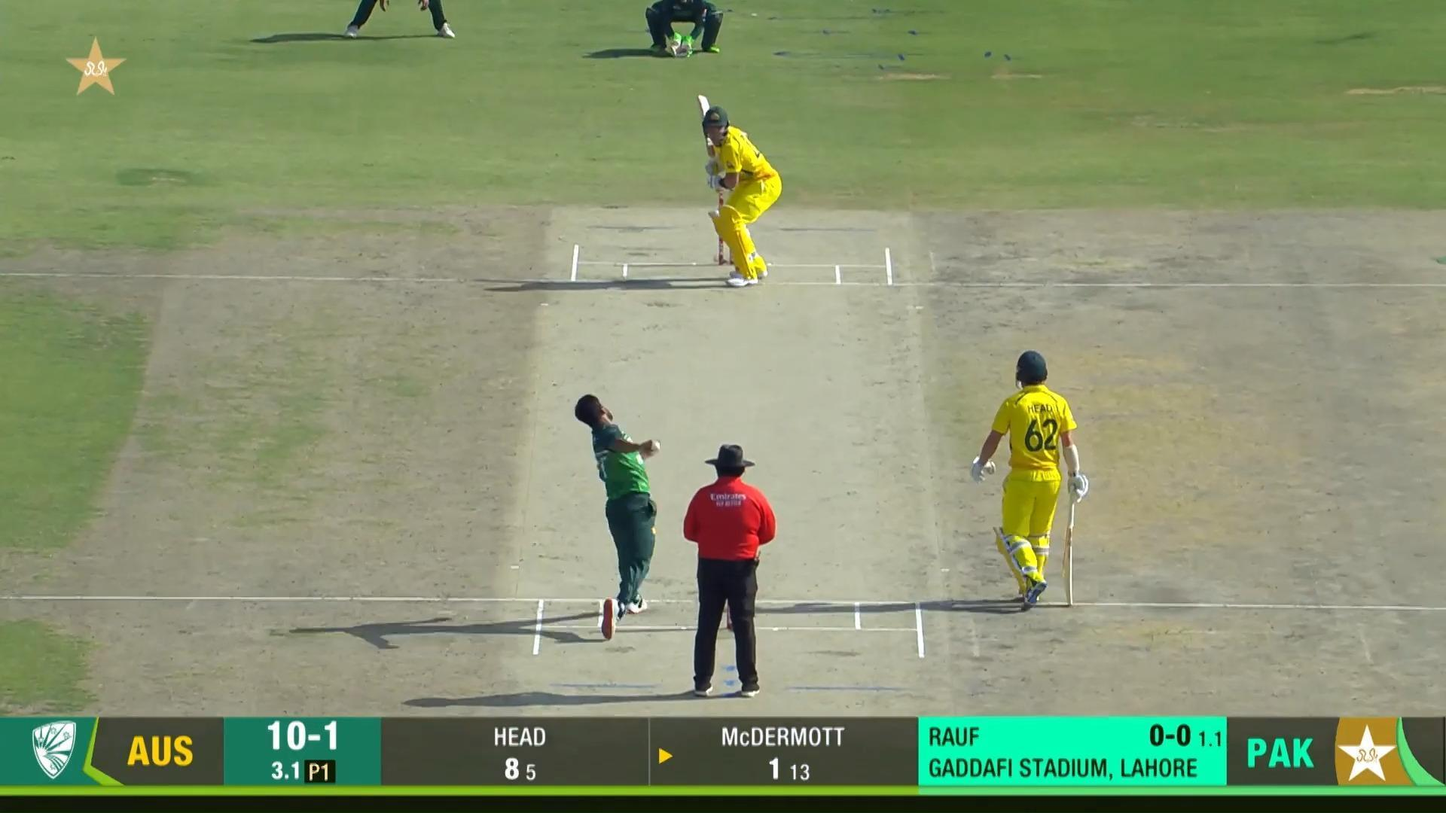BM 1: (696, 92, 783, 288)
BO: (573, 393, 663, 639)
